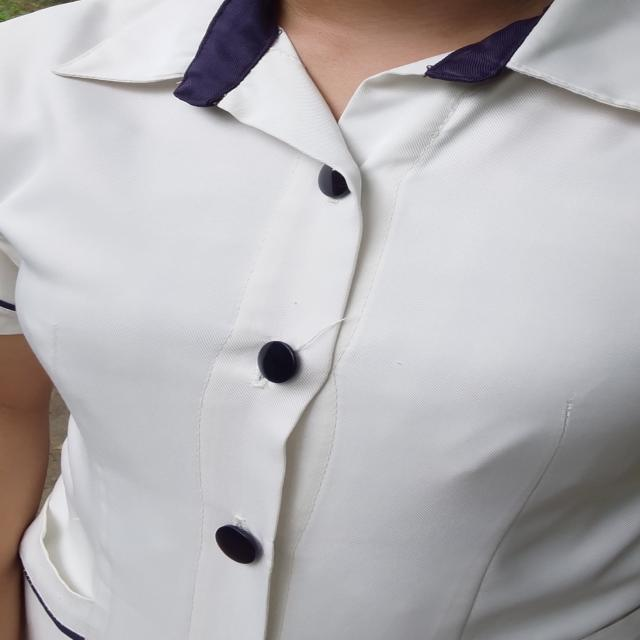education_female_uniform: (2, 1, 640, 640)
